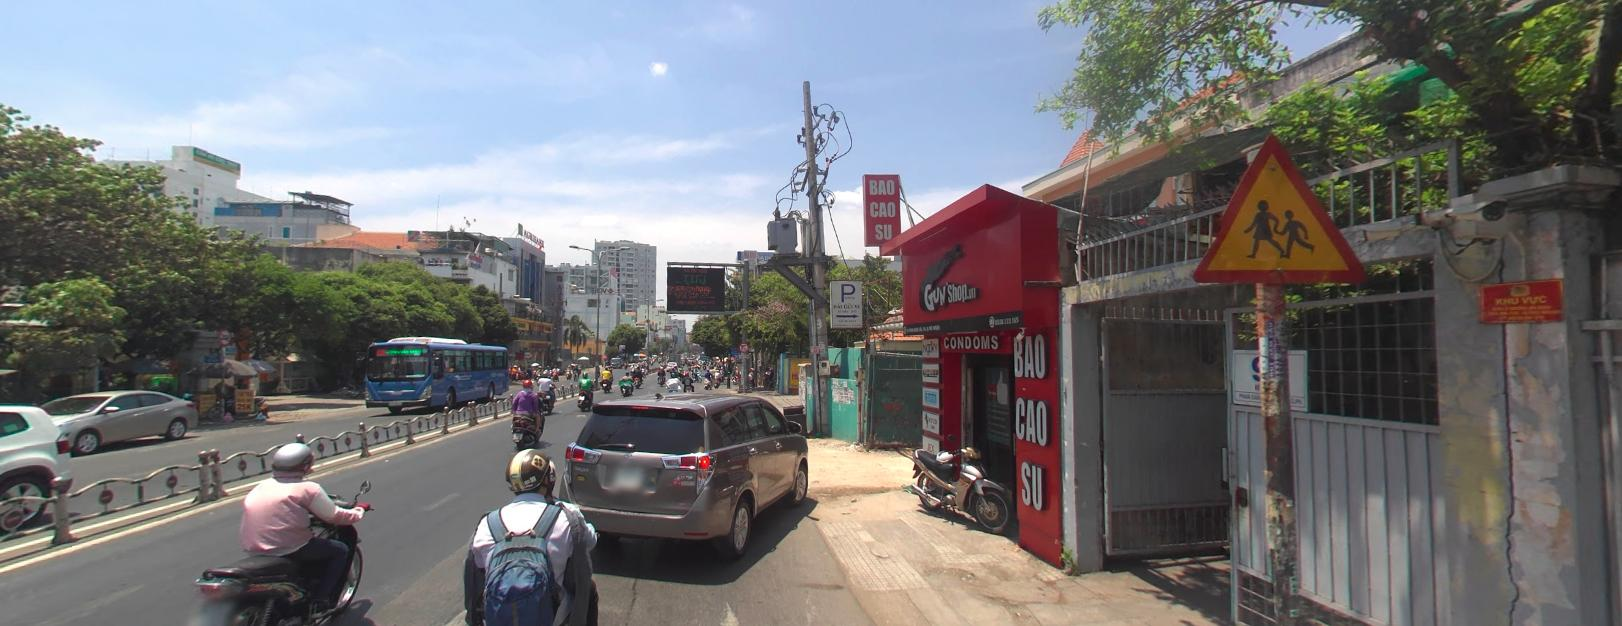Cam re: (737, 340, 748, 351)
Gioi han toc do: (217, 326, 231, 345)
Nguy hiem: (1189, 132, 1366, 284)
